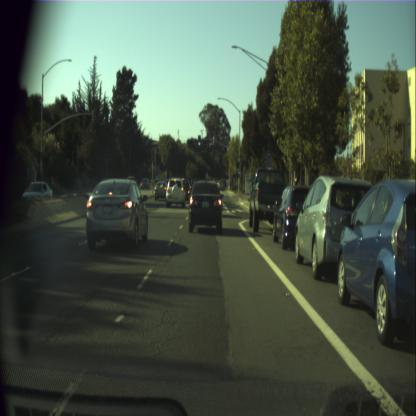Green: (236, 162, 240, 171), (198, 135, 200, 146)
